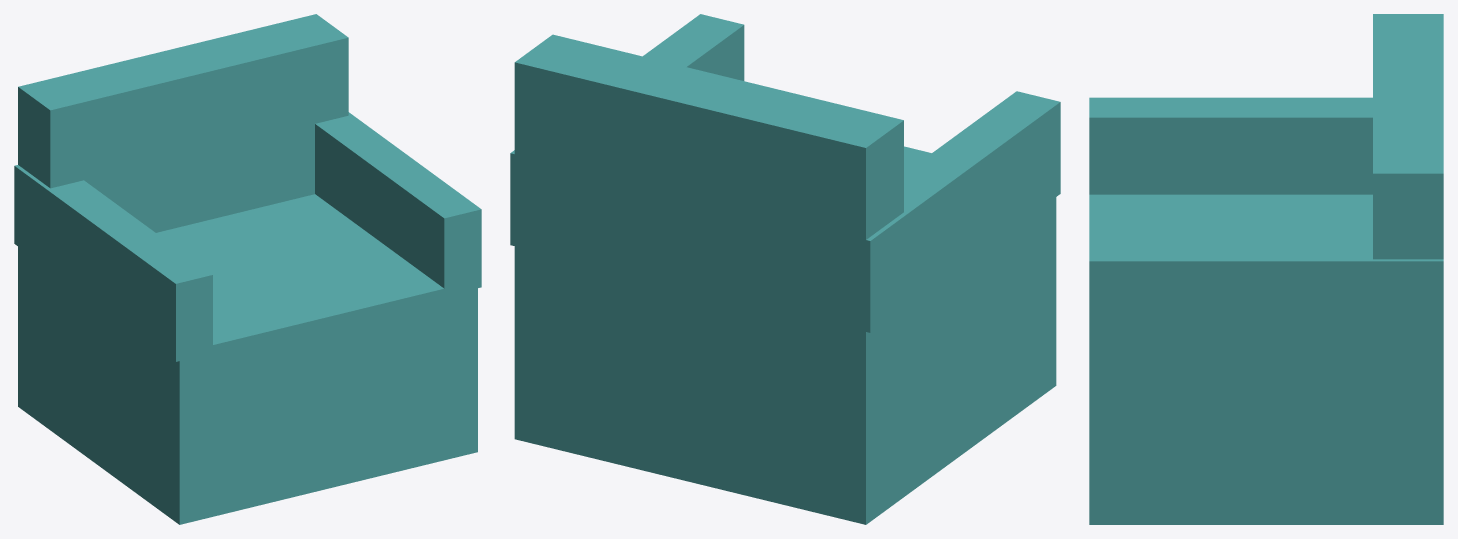
Rendered from sm_product_armchair.glb.
3 renders of one model, left to right at view 1: azimuth 30°, elevation 25°; view 2: azimuth 150°, elevation 25°; view 3: azimuth 270°, elevation 25°, orthographic. The views are drawn at different scales.
Visible parts, largest first — view 1: armchair_0, armchair_1, armchair_2, armchair_3; view 2: armchair_0, armchair_1, armchair_2, armchair_3; view 3: armchair_0, armchair_3, armchair_2, armchair_1.
Boxes of the visible parts, x1,y1,x2,y2 form: armchair_0: [18, 194, 477, 524]; armchair_1: [18, 14, 348, 232]; armchair_2: [14, 165, 212, 361]; armchair_3: [315, 112, 481, 288]; armchair_0: [514, 146, 1056, 524]; armchair_1: [514, 34, 903, 331]; armchair_2: [827, 91, 1060, 332]; armchair_3: [510, 14, 744, 245]; armchair_0: [1089, 194, 1443, 524]; armchair_3: [1089, 241, 1443, 346]; armchair_2: [1089, 97, 1372, 194]; armchair_1: [1373, 14, 1443, 259].
Size of what is drawn, in the model's own units: 0.82 by 0.82 by 0.75.
